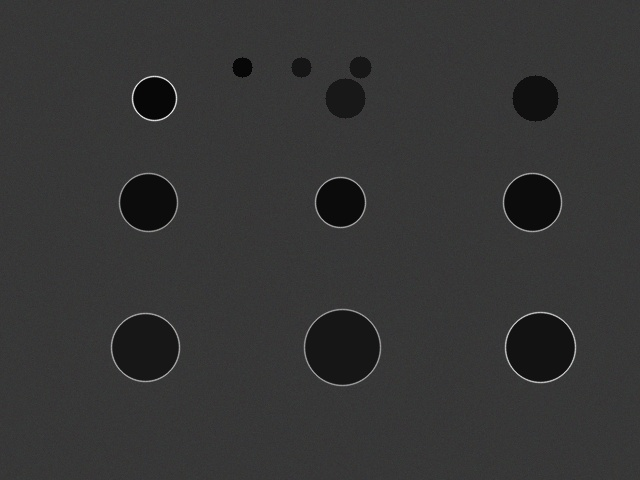hole: (304, 309, 380, 385), (505, 312, 575, 382), (111, 313, 179, 381), (119, 173, 177, 231), (503, 173, 561, 231), (315, 177, 365, 227), (512, 75, 558, 121), (132, 76, 176, 120), (325, 78, 365, 118), (349, 56, 371, 78), (232, 57, 252, 77), (291, 57, 311, 77)
